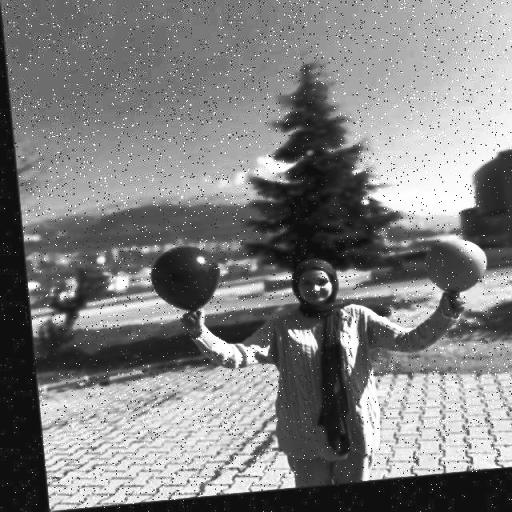balloon: (140, 249, 222, 319), (416, 244, 486, 302)
